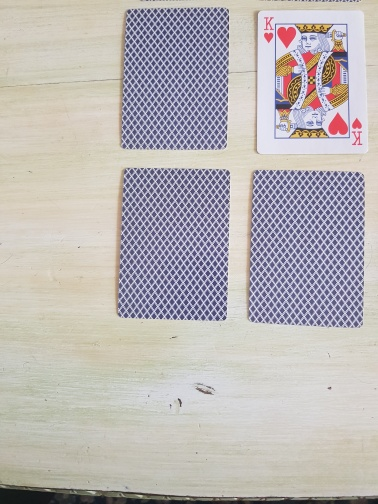king: (254, 9, 369, 155)
